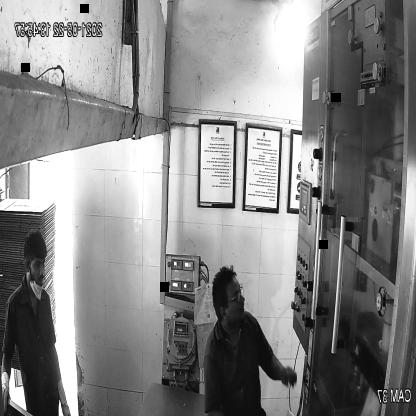goggles: (219, 283, 247, 306)
no_goggles: (26, 256, 48, 274)
